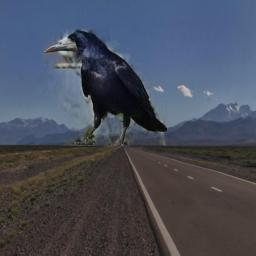Crow: (44, 29, 167, 146)
